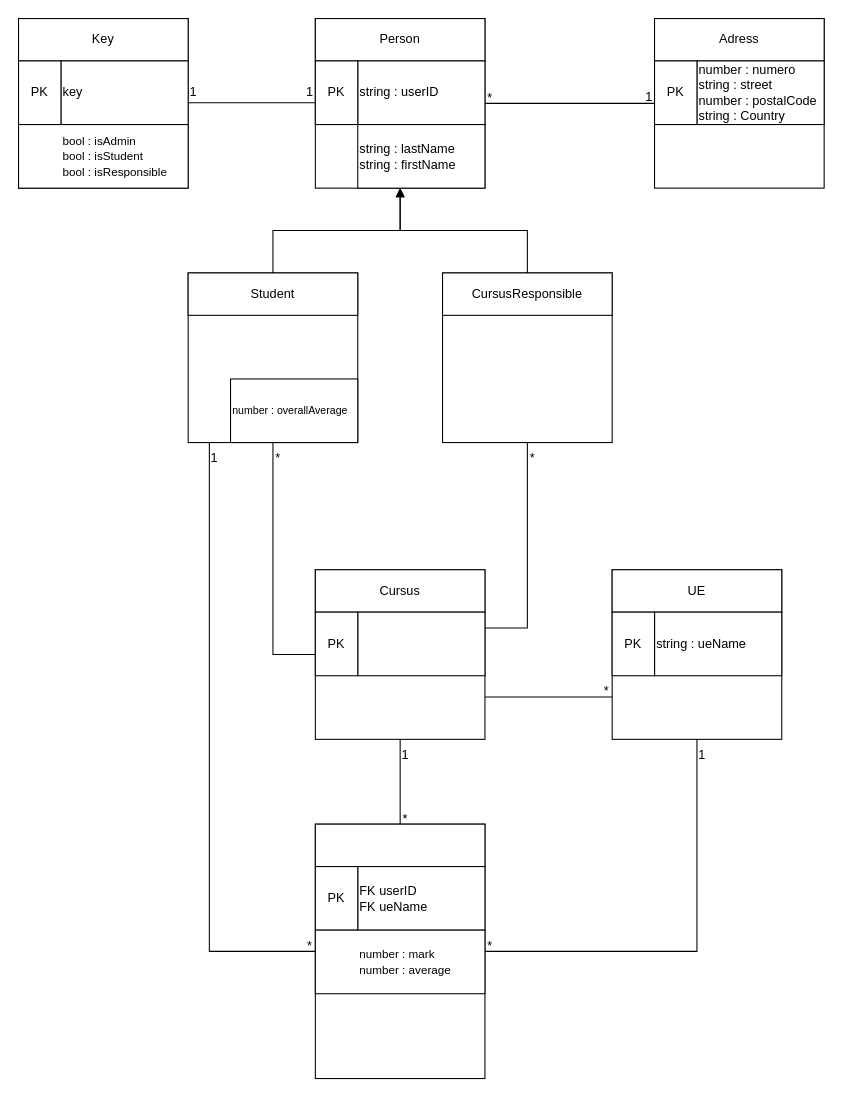
This 843x1097 diagram has some shape labels left out. Here are the shapes that lost their labels. From the top down, the centre of each, then its label:
At point 421,643: "string : cursusName".
At point 399,845: "Exam".
